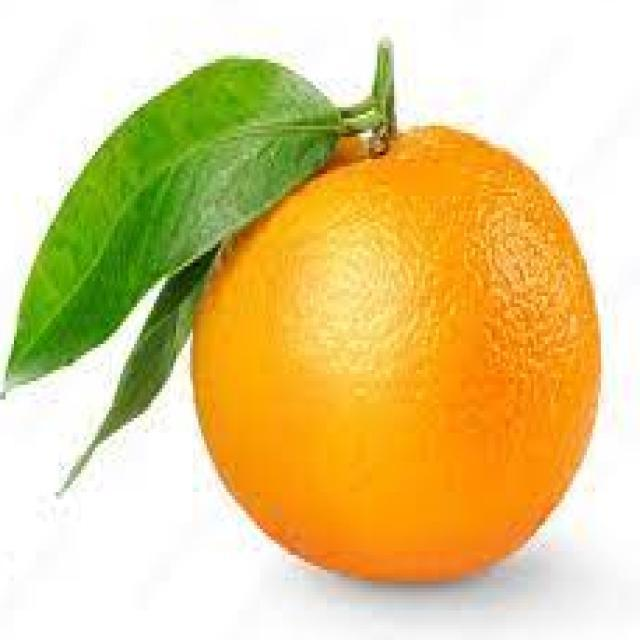Orange: (187, 122, 602, 584)
